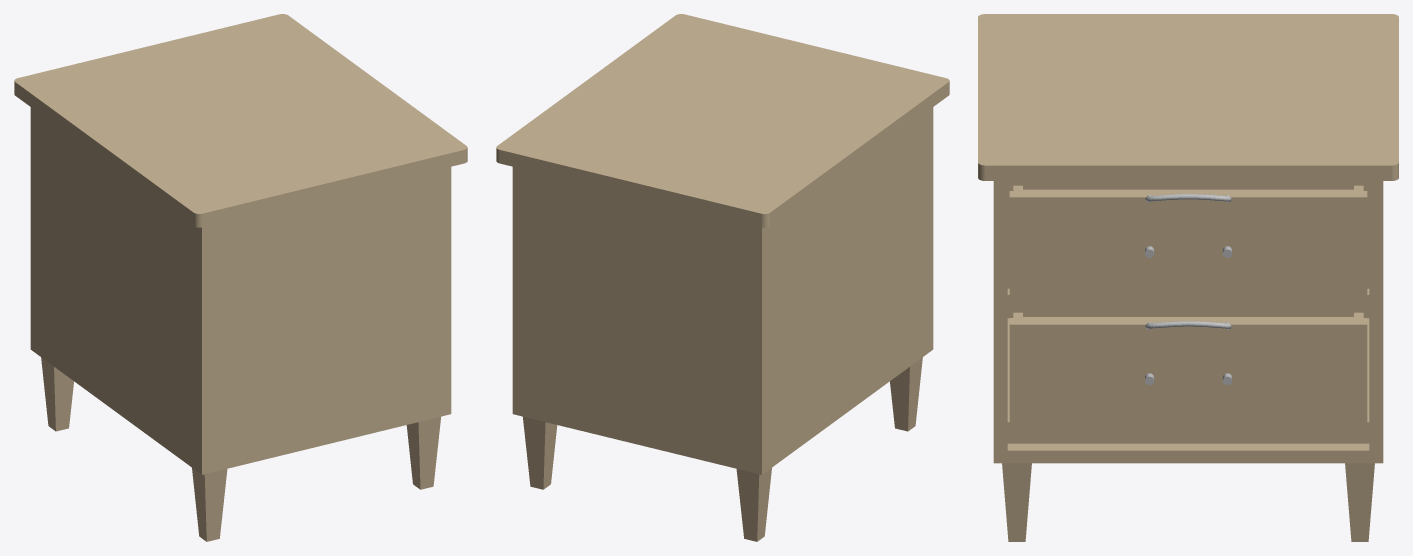
Rendered from appearance.glb.
3 renders of one model, left to right at view 1: azimuth 30°, elevation 25°; view 2: azimuth 150°, elevation 25°; view 3: azimuth 270°, elevation 25°, orthographic. The views are drawn at different scales.
Parts seen in each view (by area): view 1: visual_0_0; view 2: visual_0_0; view 3: visual_0_0, visual_1_0, visual_2_0.
Boxes of the visible parts, <box> form: visual_0_0: <box>14,14,467,541</box>; visual_0_0: <box>496,14,949,541</box>; visual_0_0: <box>978,14,1398,541</box>; visual_1_0: <box>1009,312,1367,430</box>; visual_2_0: <box>1009,185,1367,303</box>.
Bounding box in the file's own units: 0.4755 × 0.551 × 0.54.
